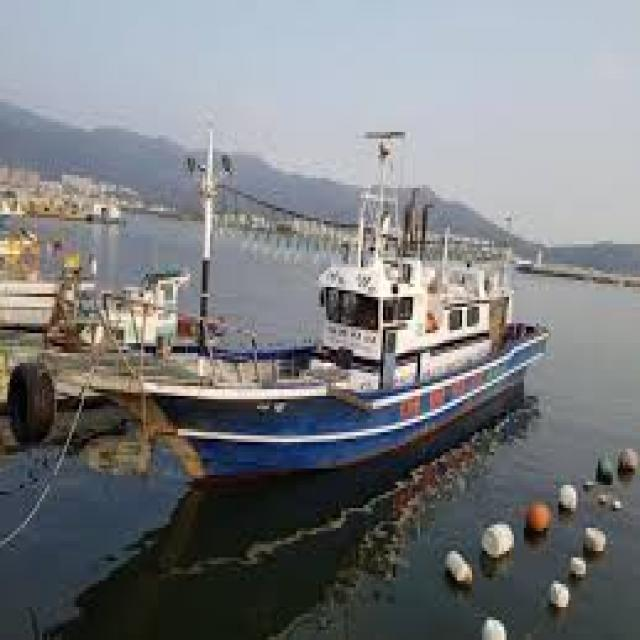Ship: (88, 120, 575, 500)
